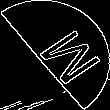M_SW: (17, 22, 93, 88)
